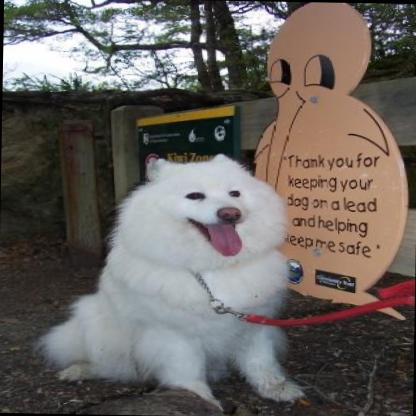Samoyed: (37, 146, 312, 414)
